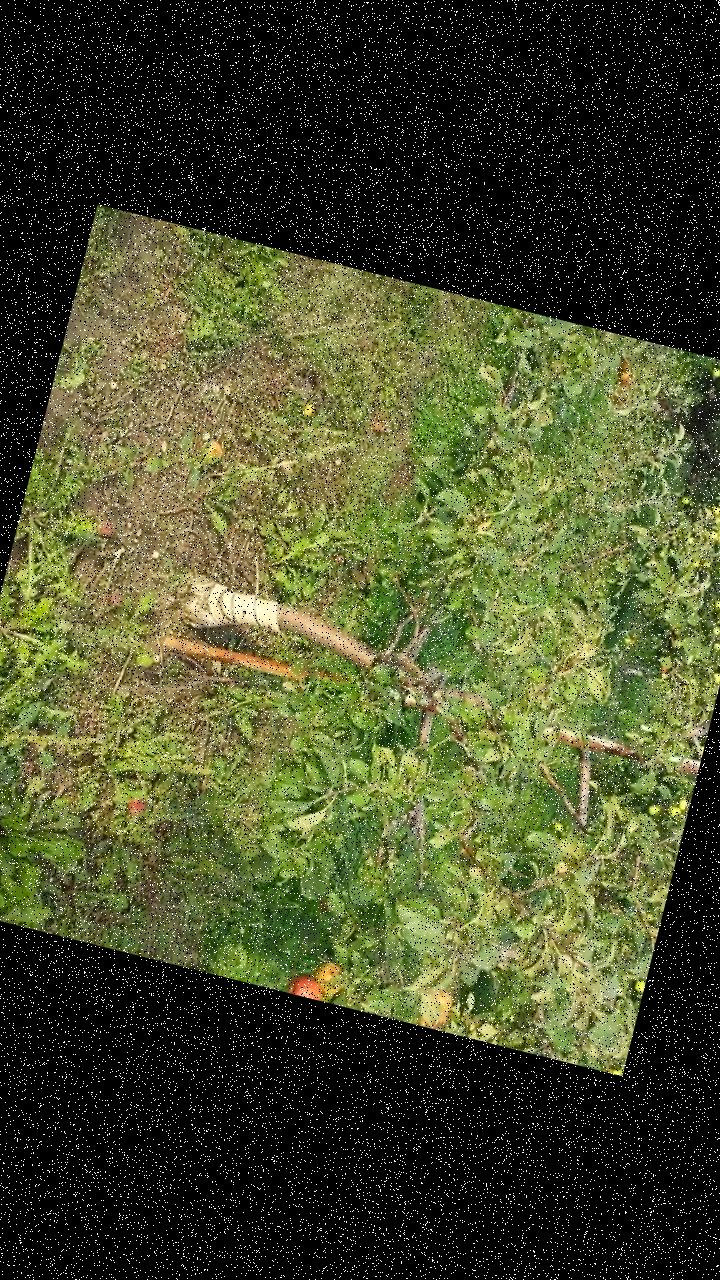Apple: (312, 960, 348, 996), (288, 972, 326, 1000), (615, 364, 638, 386)
